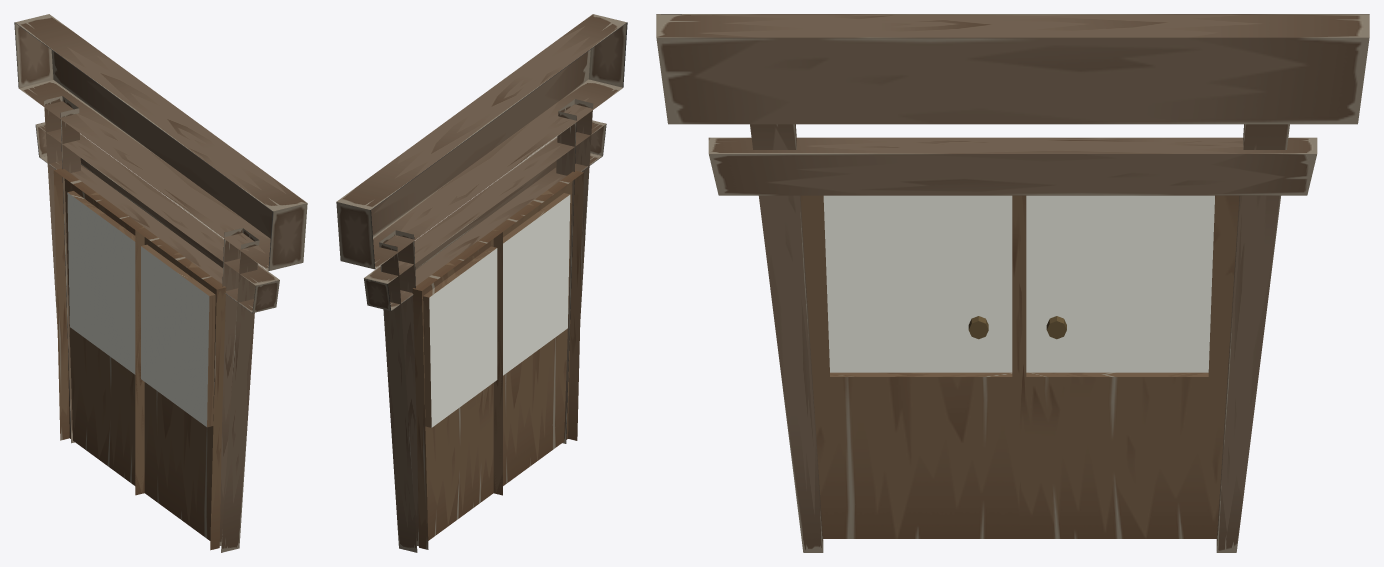
File: dojoDoorExit.fbx
3 renders of one model, left to right at view 1: azimuth 30°, elevation 25°; view 2: azimuth 150°, elevation 25°; view 3: azimuth 270°, elevation 25°, orthographic. The views are drawn at different scales.
Visible parts, largest first — view 1: polySurface18; view 2: polySurface18; view 3: polySurface18.
Part boxes in pixels (x1,y1,x2,y2): polySurface18: (14,14,307,552); polySurface18: (336,14,627,552); polySurface18: (656,14,1369,552).
Size of the model in its own units: 1.47 by 13.06 by 16.07.
